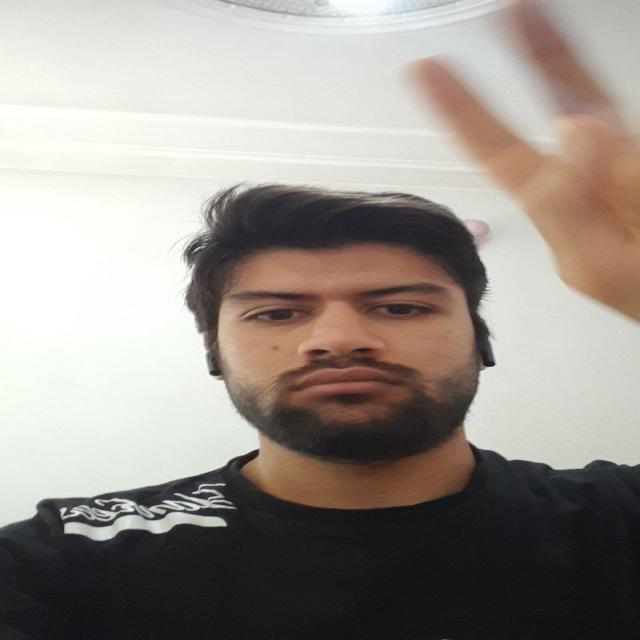Head: (178, 180, 504, 472)
Two: (405, 0, 639, 326)
